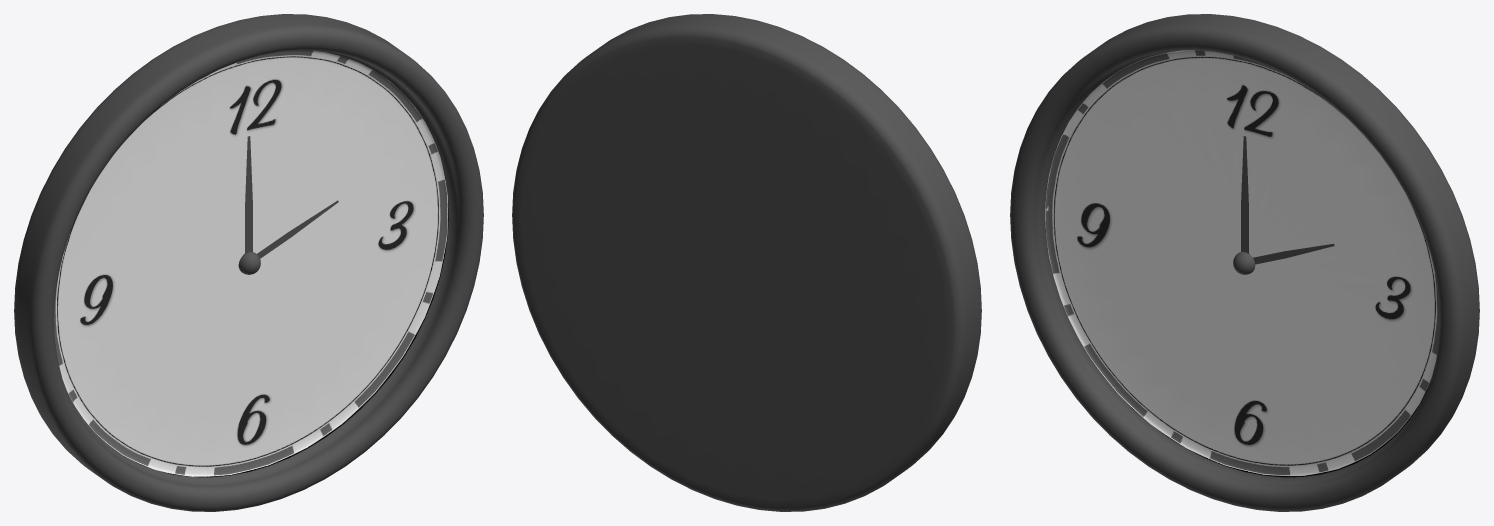
The model's file is classic_wall_clock.glb.
3 renders of one model, left to right at view 1: azimuth 30°, elevation 25°; view 2: azimuth 150°, elevation 25°; view 3: azimuth 330°, elevation 25°, orthographic.
Visible parts, largest first — view 1: Cylinder_0, Plane_1; view 2: Cylinder_0; view 3: Cylinder_0, Plane_1.
Boxes of the visible parts, x1,y1,x2,y2 form: Cylinder_0: (14,14,483,511); Plane_1: (245,136,252,253); Cylinder_0: (512,14,981,511); Cylinder_0: (1010,14,1479,511); Plane_1: (1241,136,1248,253).
Bounding box in the file's own units: 1.99 × 1.99 × 0.1977.
Materials: 2 (1 with a texture image).
